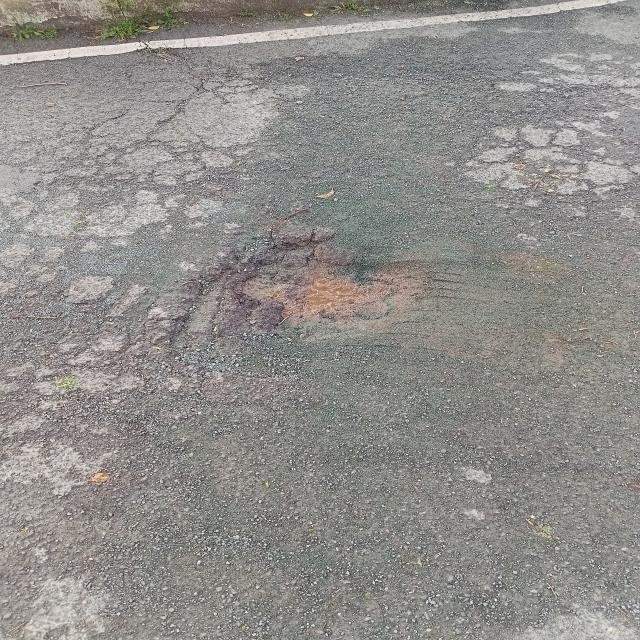pothole: (212, 247, 404, 330)
